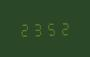five: (44, 20, 56, 36)
three: (31, 20, 43, 37)
two: (18, 20, 30, 37), (57, 19, 69, 36)
